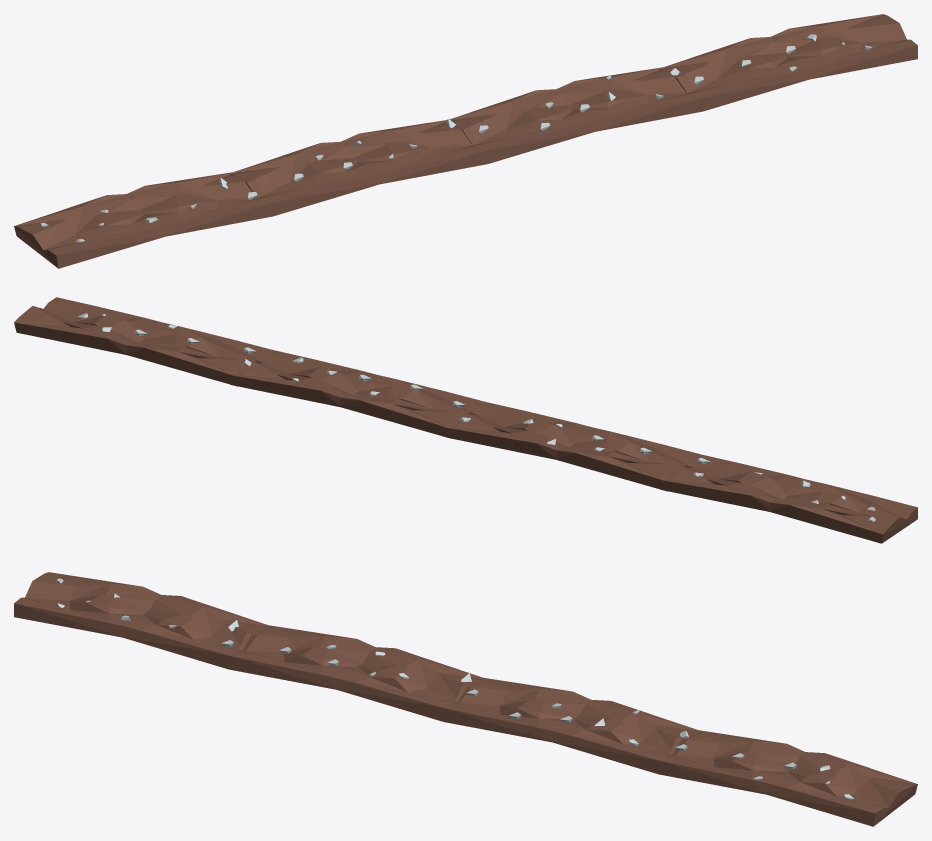
Rendered from fertile-soil.glb.
3 renders of one model, top to bottom at view 1: azimuth 30°, elevation 25°; view 2: azimuth 150°, elevation 25°; view 3: azimuth 330°, elevation 25°, orthographic.
Visible parts, largest first — view 1: group312642189.008, group312642189.007, group312642189.011, group312642189.004, group312642189.010, group312642189.006, group312642189.009, group312642189.005; view 2: group312642189.008, group312642189.007, group312642189.004, group312642189.010, group312642189.006, group312642189.011, group312642189.009, group312642189.005; view 3: group312642189.007, group312642189.008, group312642189.011, group312642189.009, group312642189.005, group312642189.010, group312642189.004, group312642189.006.
Part boxes in pixels (x1,y1,x2,y2): group312642189.008: [14, 194, 165, 268]; group312642189.007: [771, 14, 917, 79]; group312642189.011: [341, 119, 487, 184]; group312642189.004: [445, 89, 595, 163]; group312642189.010: [230, 141, 379, 216]; group312642189.006: [659, 37, 809, 111]; group312642189.009: [127, 171, 273, 236]; group312642189.005: [556, 67, 703, 131]; group312642189.008: [768, 480, 917, 543]; group312642189.007: [14, 297, 162, 355]; group312642189.004: [338, 375, 486, 437]; group312642189.010: [554, 427, 701, 491]; group312642189.006: [124, 322, 271, 386]; group312642189.011: [445, 402, 592, 459]; group312642189.009: [659, 454, 807, 512]; group312642189.005: [230, 350, 376, 407]; group312642189.007: [766, 752, 917, 826]; group312642189.008: [14, 572, 160, 637]; group312642189.011: [336, 647, 486, 721]; group312642189.009: [122, 595, 272, 669]; group312642189.005: [552, 699, 701, 774]; group312642189.010: [228, 625, 375, 689]; group312642189.004: [444, 677, 590, 742]; group312642189.006: [658, 729, 804, 794].
Size of the model in its own units: 8.71 by 0.2304 by 0.7051.
